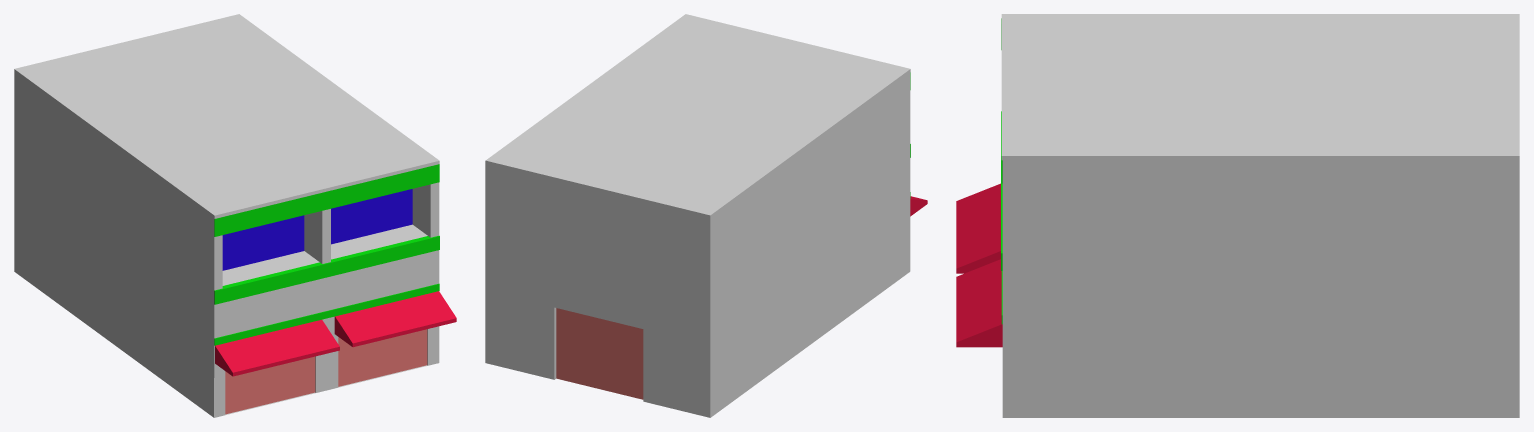
Rendered from building16.fbx.
3 renders of one model, left to right at view 1: azimuth 30°, elevation 25°; view 2: azimuth 150°, elevation 25°; view 3: azimuth 270°, elevation 25°, orthographic. The views are drawn at different scales.
Parts seen in each view (by area): view 1: building5; view 2: building5; view 3: building5.
Part boxes in pixels (bbox=[...]): building5: bbox=[14, 14, 456, 417]; building5: bbox=[485, 14, 927, 417]; building5: bbox=[956, 14, 1519, 417].
Size of the model in its own units: 1300 by 1119 by 2180.
